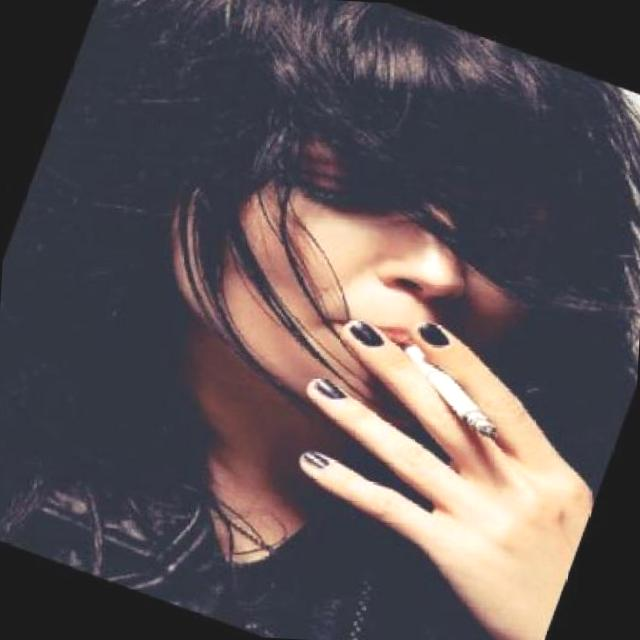cigarette: (374, 338, 521, 448)
